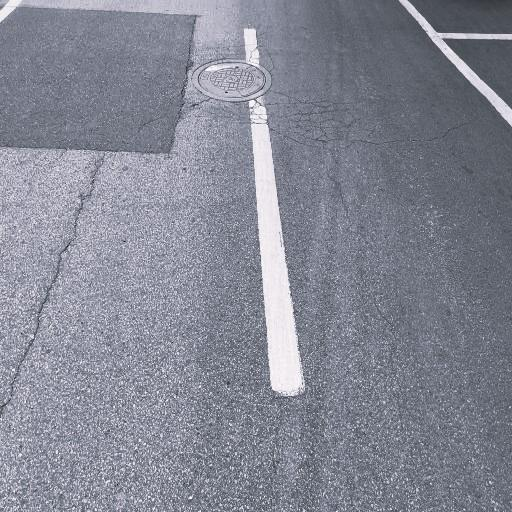Lubang: (193, 57, 273, 100)
Memanjang: (0, 155, 122, 436)
Sambungan: (0, 3, 196, 154)
